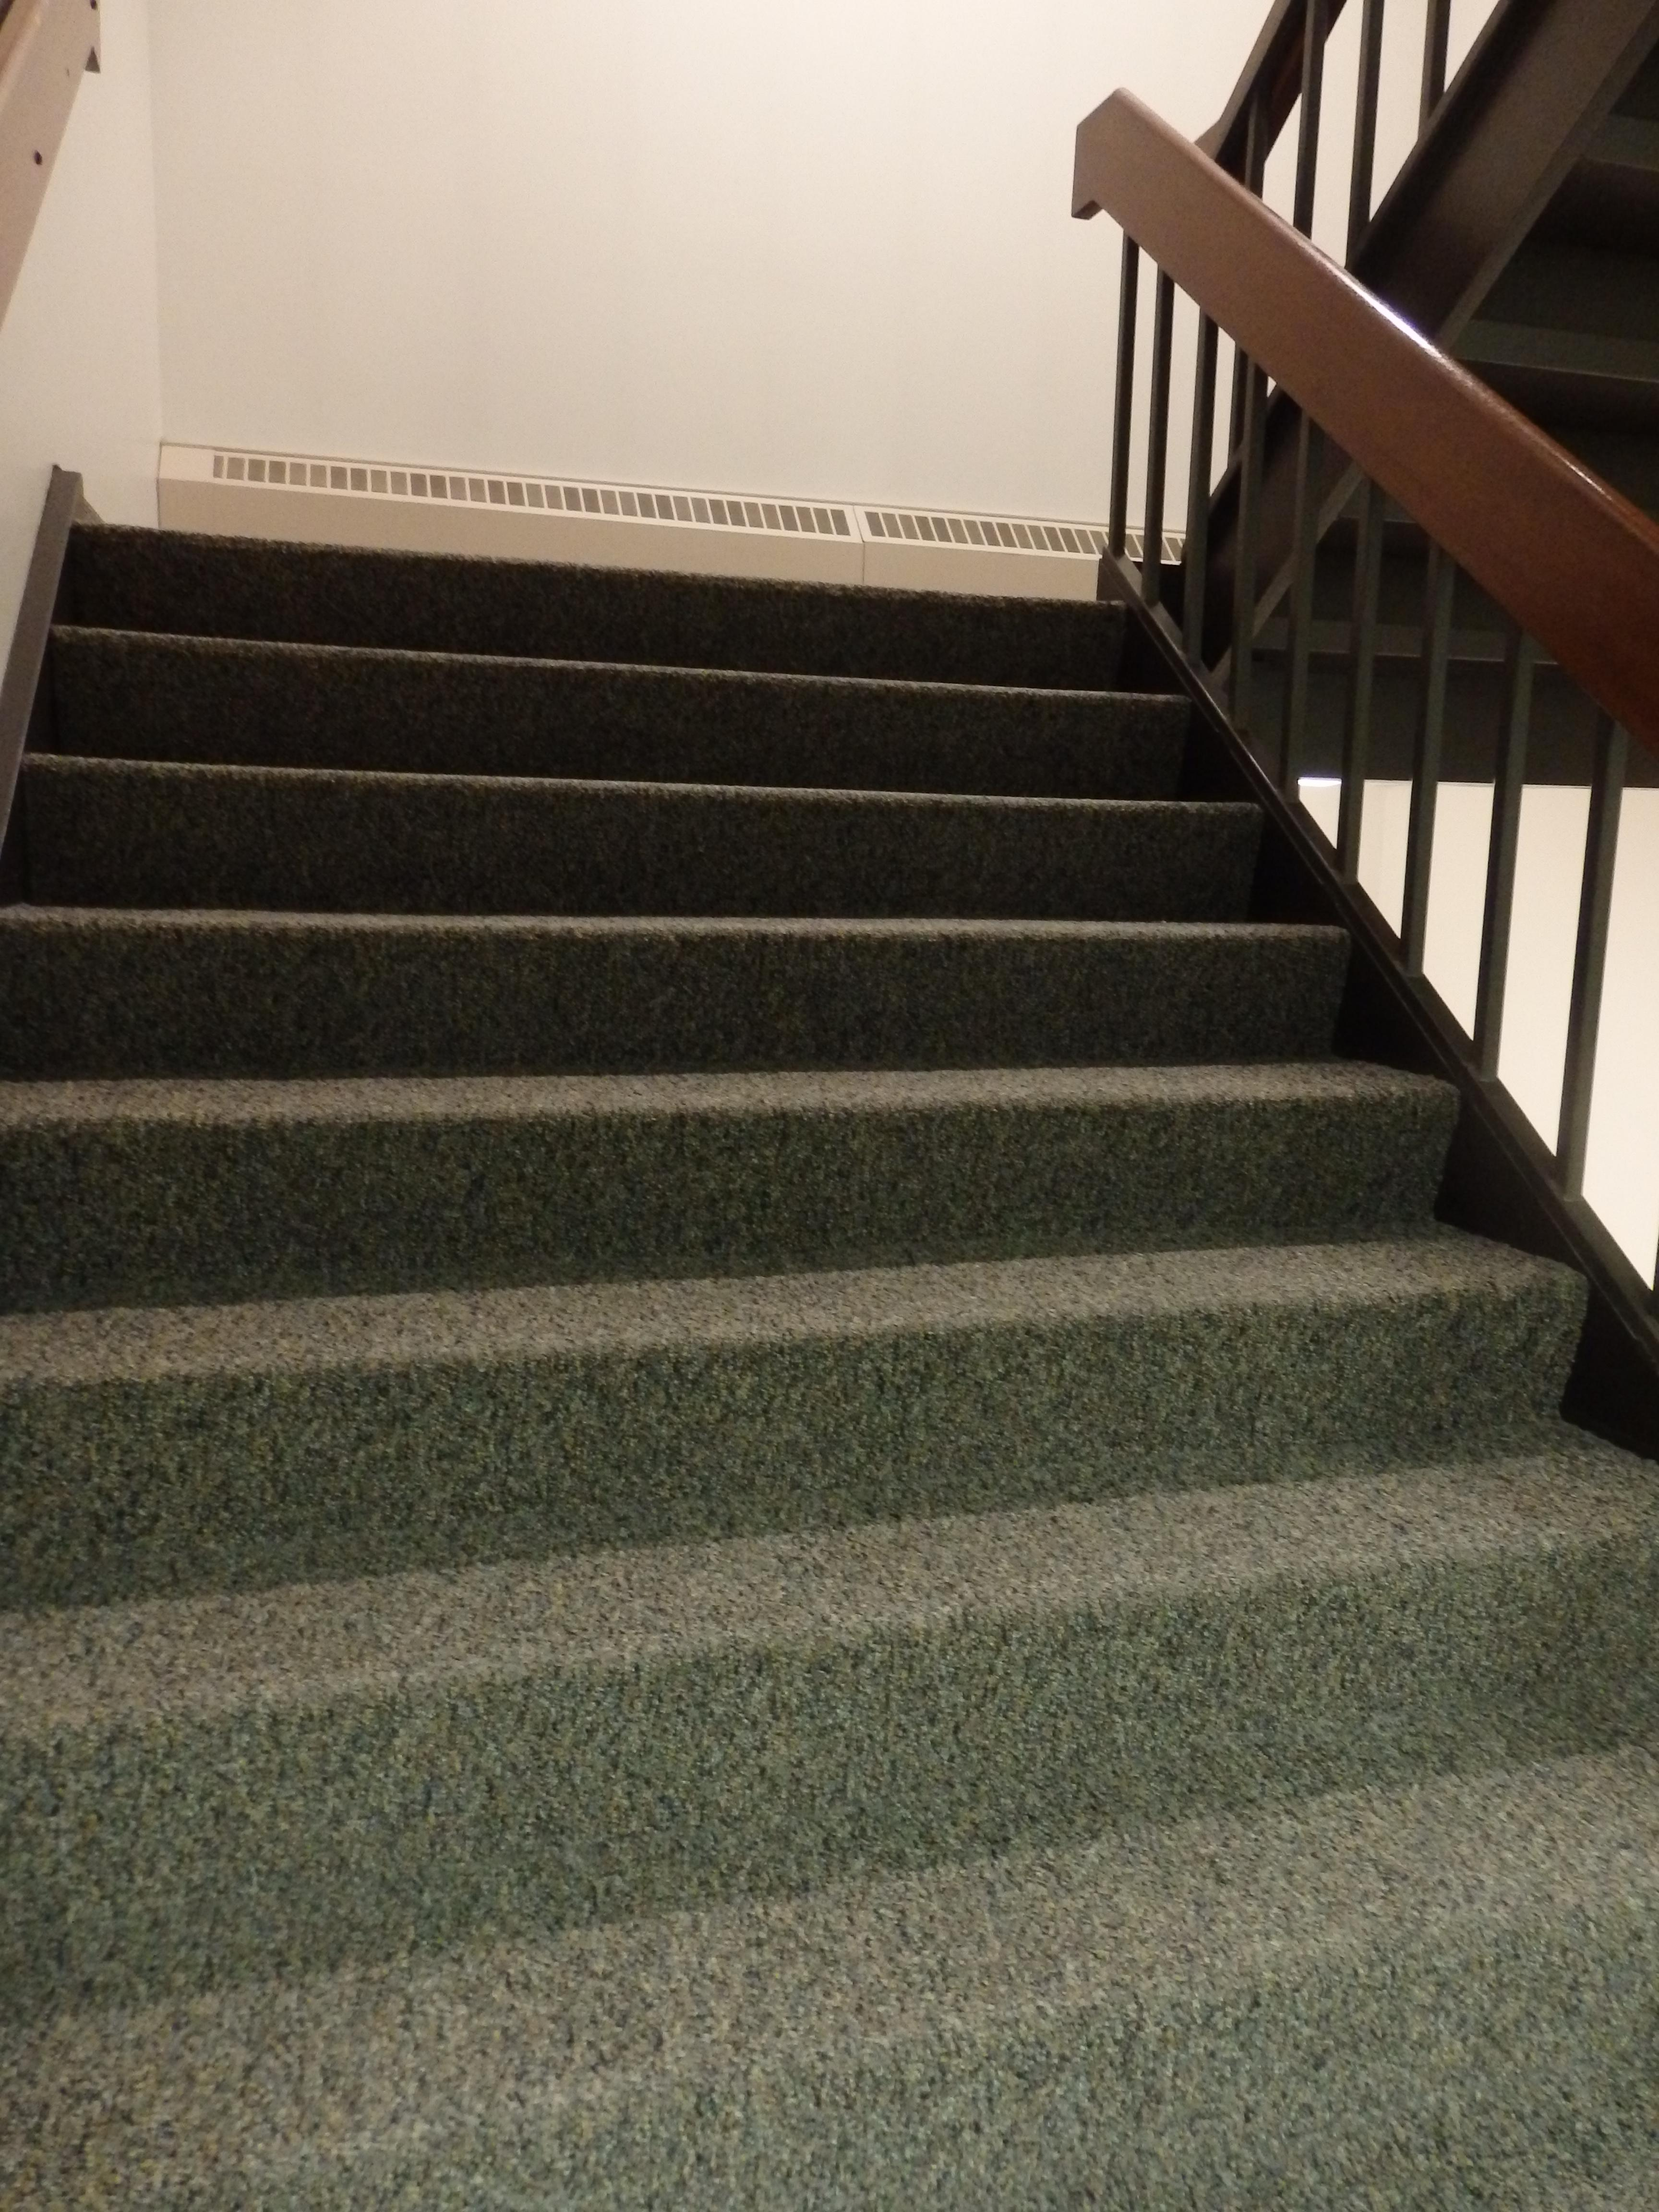stairs_up: (23, 517, 1659, 2209)
